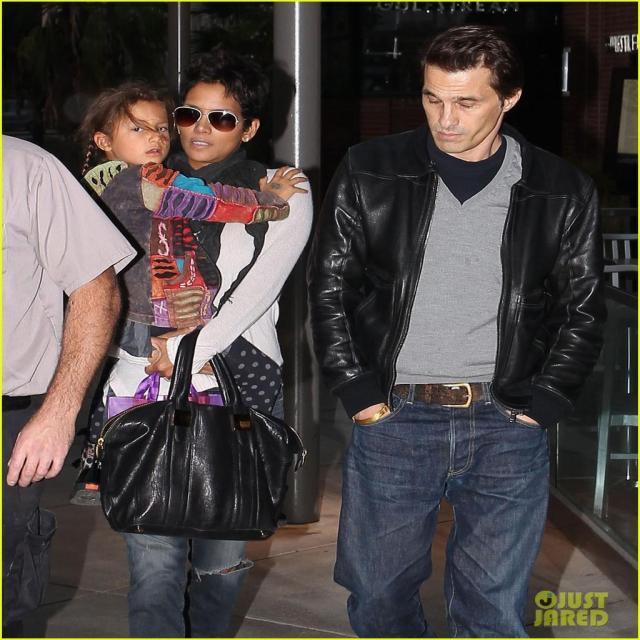Face: (412, 61, 505, 160), (178, 85, 261, 172), (103, 103, 171, 173)
